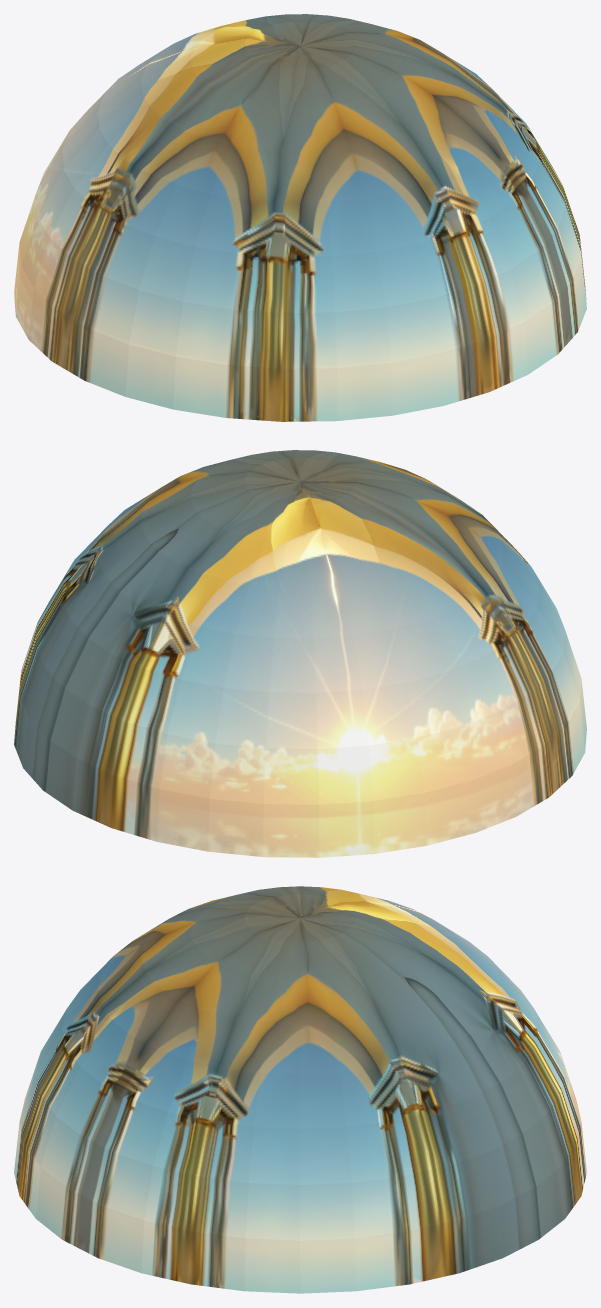
The model's file is the-eedway.glb.
The picture shows the model from 3 angles, top to bottom: view 1: azimuth 30°, elevation 25°; view 2: azimuth 150°, elevation 25°; view 3: azimuth 270°, elevation 25°; orthographic projection.
Visible parts, largest first — view 1: Sphere; view 2: Sphere; view 3: Sphere.
Boxes of the visible parts, x1,y1,x2,y2 form: Sphere: [14, 14, 586, 421]; Sphere: [14, 450, 586, 857]; Sphere: [14, 886, 586, 1293].
Size of the model in its own units: 200 by 98.08 by 200.
1 material, 1 textured.
